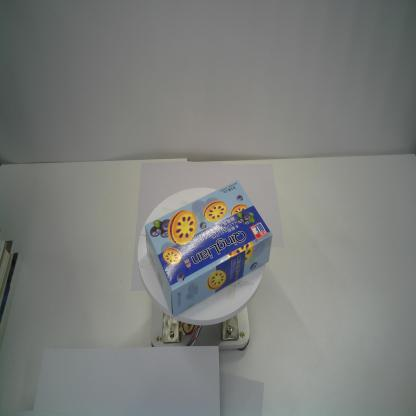Dessert: (145, 179, 273, 318)
